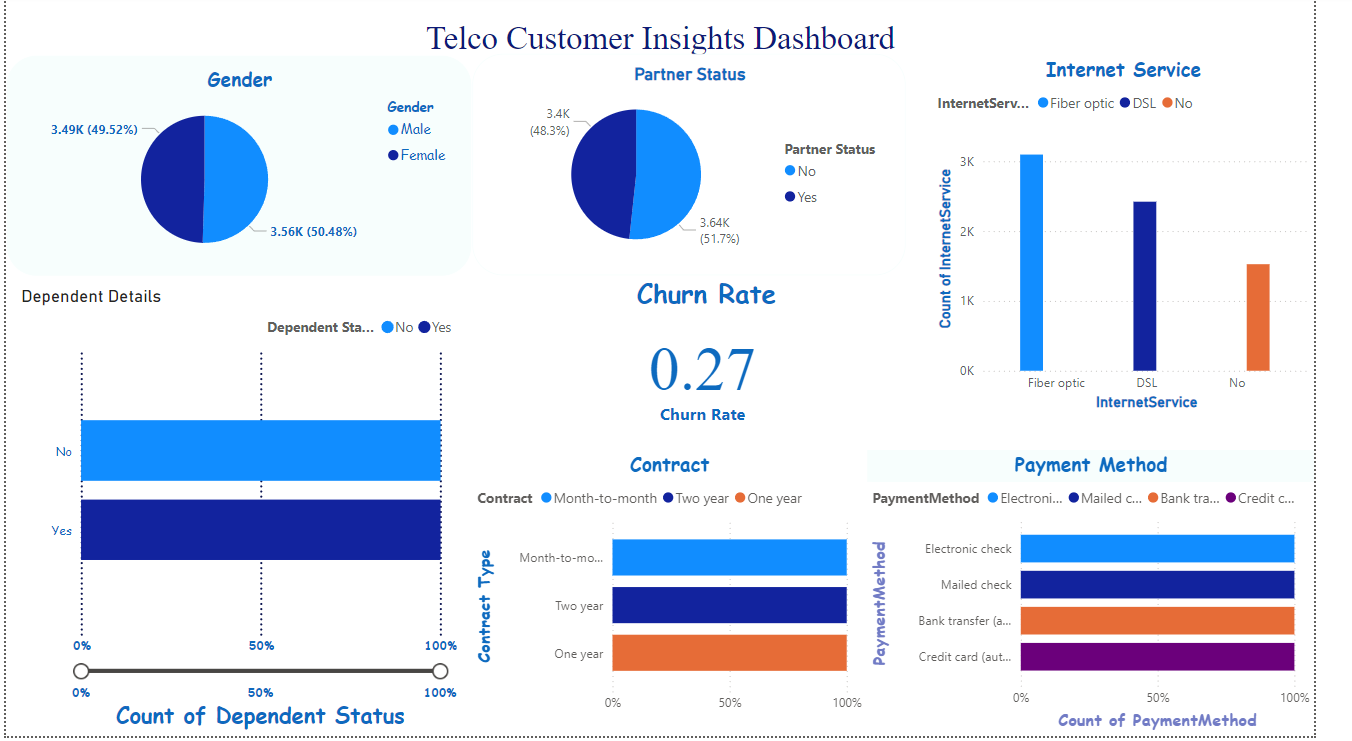

The page's visual inventory and layout, read from the dashboard file:
{"tool":"powerbi","page":{"name":"Page 1","canvas":[1280,720],"ordinal":0},"visuals":[{"type":"textbox","box":[0,0,1280.3,85.6],"z":0},{"type":"card","title":"Churn Rate","fields":{"Values":["Table.Churn Rate"]},"box":[456.1,255.6,450,184.6],"z":1000},{"type":"pieChart","title":"Gender ","fields":{"Y":["CountNonNull(Telco_Customer_Churn_Dataset  (2).Gender)"],"Category":["Telco_Customer_Churn_Dataset  (2).Gender"]},"box":[0,53.8,456.1,216.4],"z":2000},{"type":"hundredPercentStackedBarChart","title":"Dependent  Details ","fields":{"Category":["Telco_Customer_Churn_Dataset  (2).Dependent Status"],"Y":["CountNonNull(Telco_Customer_Churn_Dataset  (2).Dependent Status)"],"Series":["Telco_Customer_Churn_Dataset  (2).Dependent Status"]},"box":[0,269.9,455.7,450.3],"z":3000},{"type":"pieChart","title":"Partner Status ","fields":{"Category":["Telco_Customer_Churn_Dataset  (2).Partner Status"],"Y":["CountNonNull(Telco_Customer_Churn_Dataset  (2).Partner Status)"]},"box":[456.1,52.6,424.3,216.4],"z":4000},{"type":"hundredPercentStackedBarChart","title":"Contract ","fields":{"Category":["Telco_Customer_Churn_Dataset  (2).Contract"],"Y":["CountNonNull(Telco_Customer_Churn_Dataset  (2).Contract)"],"Series":["Telco_Customer_Churn_Dataset  (2).Contract"]},"box":[455.7,440.8,386.5,279.4],"z":5000},{"type":"hundredPercentStackedBarChart","title":"Payment Method","fields":{"Category":["Telco_Customer_Churn_Dataset  (2).PaymentMethod"],"Y":["CountNonNull(Telco_Customer_Churn_Dataset  (2).PaymentMethod)"],"Series":["Telco_Customer_Churn_Dataset  (2).PaymentMethod"]},"box":[842.2,440.8,438.1,279.4],"z":6000},{"type":"lineClusteredColumnComboChart","title":"Internet Service","fields":{"Category":["Telco_Customer_Churn_Dataset  (2).InternetService"],"Y":["CountNonNull(Telco_Customer_Churn_Dataset  (2).InternetService)"],"Series":["Telco_Customer_Churn_Dataset  (2).InternetService"]},"box":[906,54.2,374.3,352.6],"z":7000}]}

Visuals, with their boxes in screenshot pixels (x1, y1, x2, y2), scaled from the page's 1280x720 canvas onto the 1352x741 screenshot:
textbox: bbox=(0, 0, 1351, 88)
"Churn Rate" card: bbox=(482, 263, 957, 453)
"Gender " pieChart: bbox=(0, 55, 482, 278)
"Dependent  Details " hundredPercentStackedBarChart: bbox=(0, 278, 481, 740)
"Partner Status " pieChart: bbox=(482, 54, 930, 277)
"Contract " hundredPercentStackedBarChart: bbox=(481, 454, 890, 740)
"Payment Method" hundredPercentStackedBarChart: bbox=(890, 454, 1351, 740)
"Internet Service" lineClusteredColumnComboChart: bbox=(957, 56, 1351, 419)
